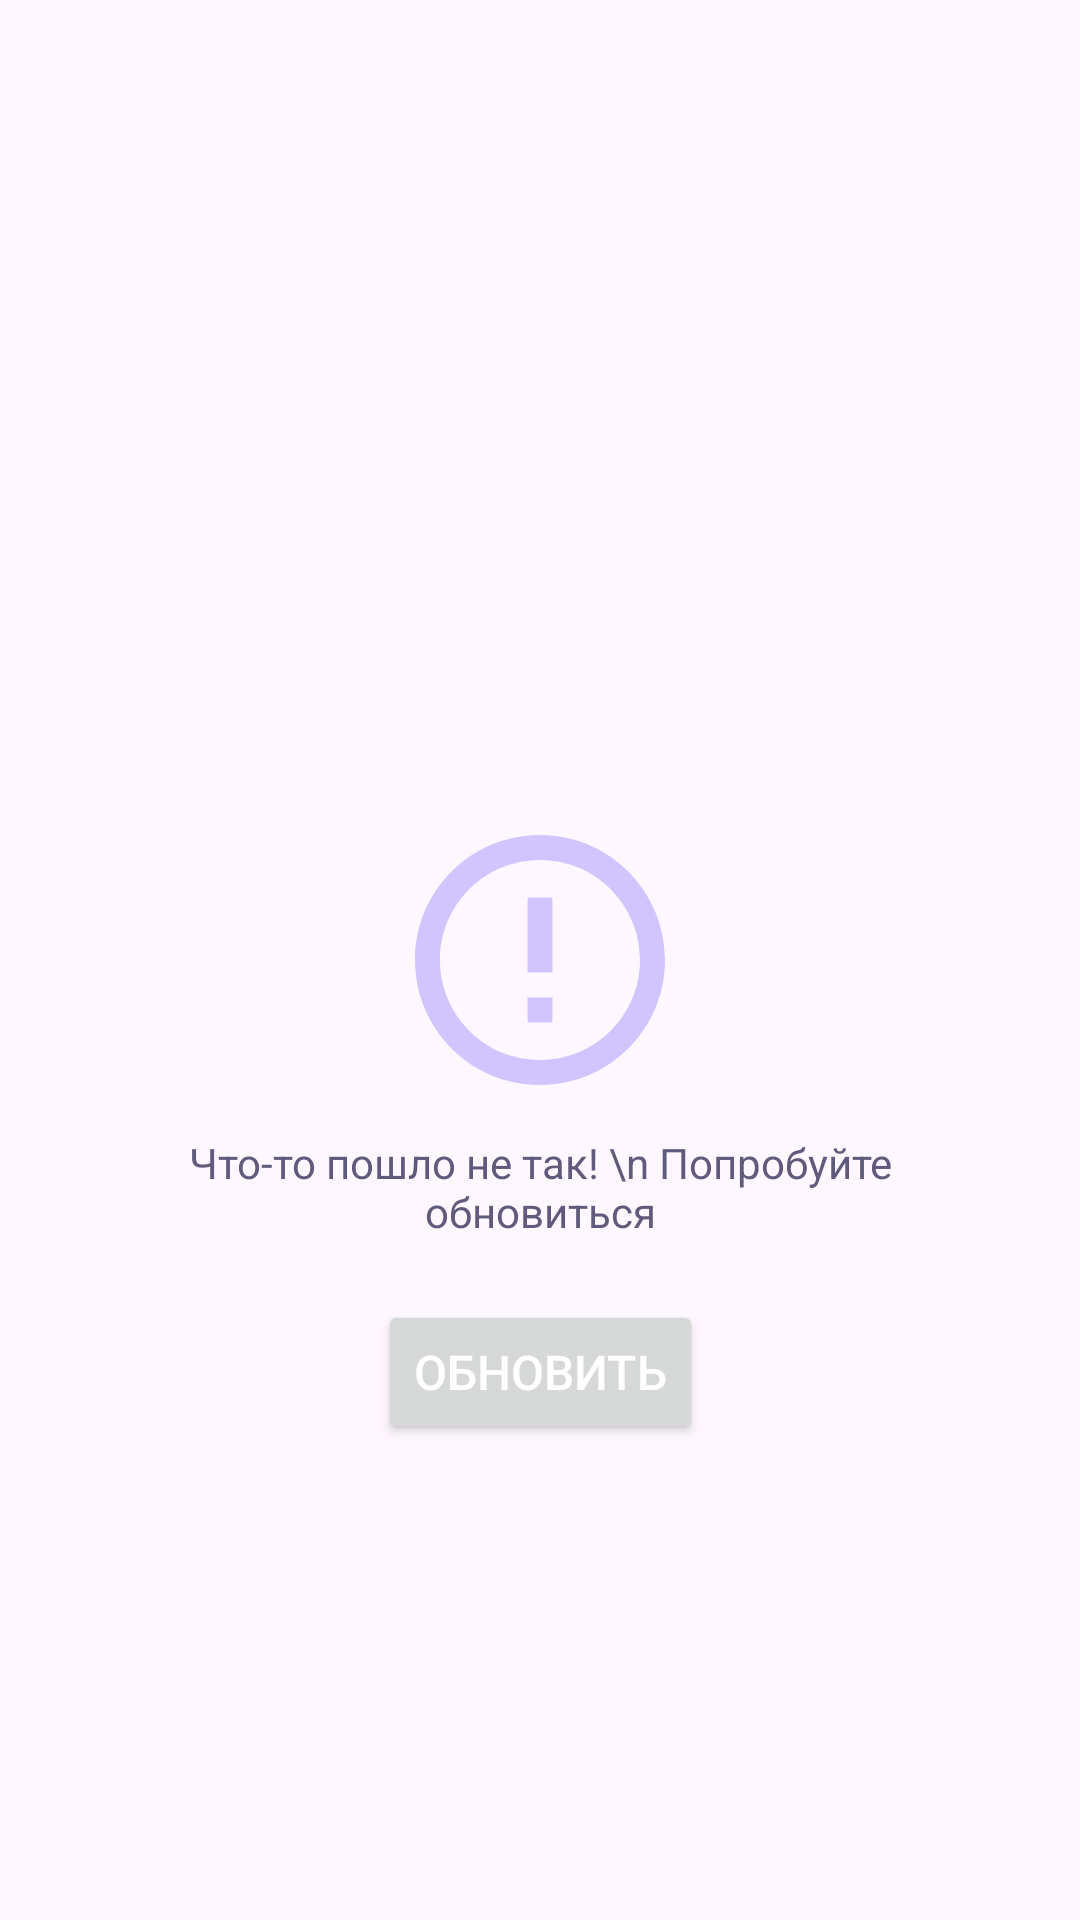

Icons on this 1080px x 1920px Android screen, each with its box as (x1, y1, x2, y2):
error: (415, 835, 665, 1085)
